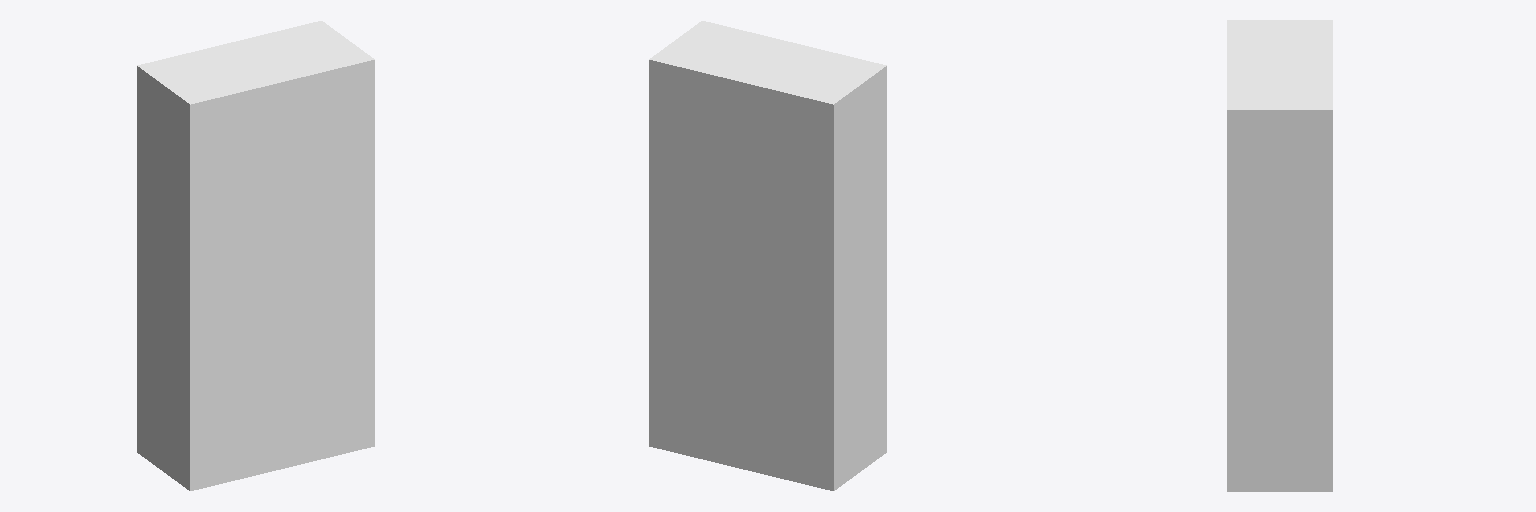
The robot description file, URDF, robot "camera":
<?xml version="1.0" ?>
<robot name="camera">
  <link name="baseLink">
    <contact>
      <lateral_friction value="1.0"/>
      <rolling_friction value="0.0"/>
      <contact_cfm value="0.0"/>
      <contact_erp value="1.0"/>
    </contact>
    <inertial>
      <origin rpy="0 0 0" xyz="0 0 0"/>
       <mass value="1.0"/>
       <inertia ixx="1" ixy="0" ixz="0" iyy="1" iyz="0" izz="1"/>
    </inertial>
    <visual>
      <origin rpy="0 0 0" xyz="0.0 0.0 -0.015"/>
      <geometry>
				<box size="0.02 0.01 0.04"/>
      </geometry>
       <material name="white">
        <color rgba="1 1 1 1"/>
      </material>
    </visual>

  </link>
 <joint name="camera_trafo" type="fixed">
		<parent link="baseLink"/>
		<child link="camera_frame"/>
		<origin xyz="0 0.0 0" rpy="0 0 0"/>
	</joint> 

    <link name="camera_frame">
    <visual>
			<origin xyz="0 0 0.0" rpy="0 0 0"/>
			<material name="blue">
            <color rgba="0 0.0 1.0 1.0"/>
            </material>
			<geometry>
				<cylinder length="0.001" radius="0.005"/>
			</geometry>
		</visual>
	</link>
</robot>

--- What the picture shows (computed from the rendered views, not written in the file) ---
Views: 3 orthographic renders of the robot side by side, from view 1: azimuth 30°, elevation 25°; view 2: azimuth 150°, elevation 25°; view 3: azimuth 270°, elevation 25°.
Model camera with 2 links and 1 joints (1 fixed), rooted at baseLink, posed all joints at 0.
Visible links, largest first — view 1: baseLink; view 2: baseLink; view 3: baseLink.
Link boxes in pixels (box(x1,y1,x2,y2)): baseLink: box(137, 21, 374, 490); baseLink: box(649, 21, 886, 490); baseLink: box(1227, 20, 1332, 491).
Size in the robot's own frame: 0.02 by 0.01 by 0.04 metres.
Geometry: primitives only (box / cylinder / sphere), no mesh files.